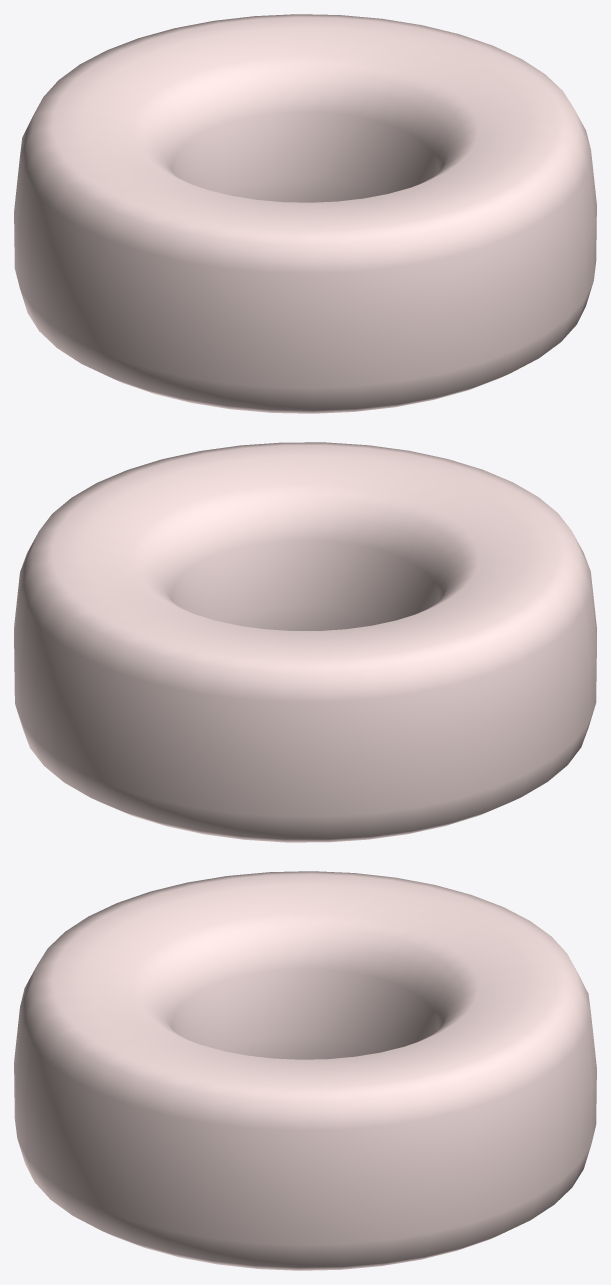
Rendered from Town_5_Tire_1.glb.
3 renders of one model, top to bottom at view 1: azimuth 30°, elevation 25°; view 2: azimuth 150°, elevation 25°; view 3: azimuth 270°, elevation 25°, orthographic.
Visible parts, largest first — view 1: Town_5_Tire_1; view 2: Town_5_Tire_1; view 3: Town_5_Tire_1.
Boxes of the visible parts, <box> form: Town_5_Tire_1: <box>14,14,596,413</box>; Town_5_Tire_1: <box>14,442,596,842</box>; Town_5_Tire_1: <box>14,871,596,1270</box>.
Size of the model in its own units: 0.993 by 0.3497 by 0.993.
Materials: 1 (1 with a texture image).
